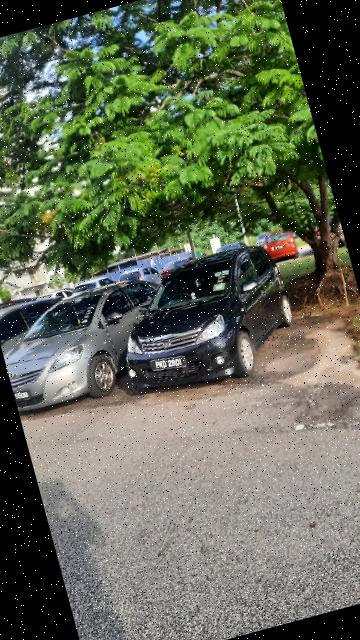License_Plate: (152, 350, 199, 380)
car: (102, 232, 313, 409), (1, 270, 190, 419)
